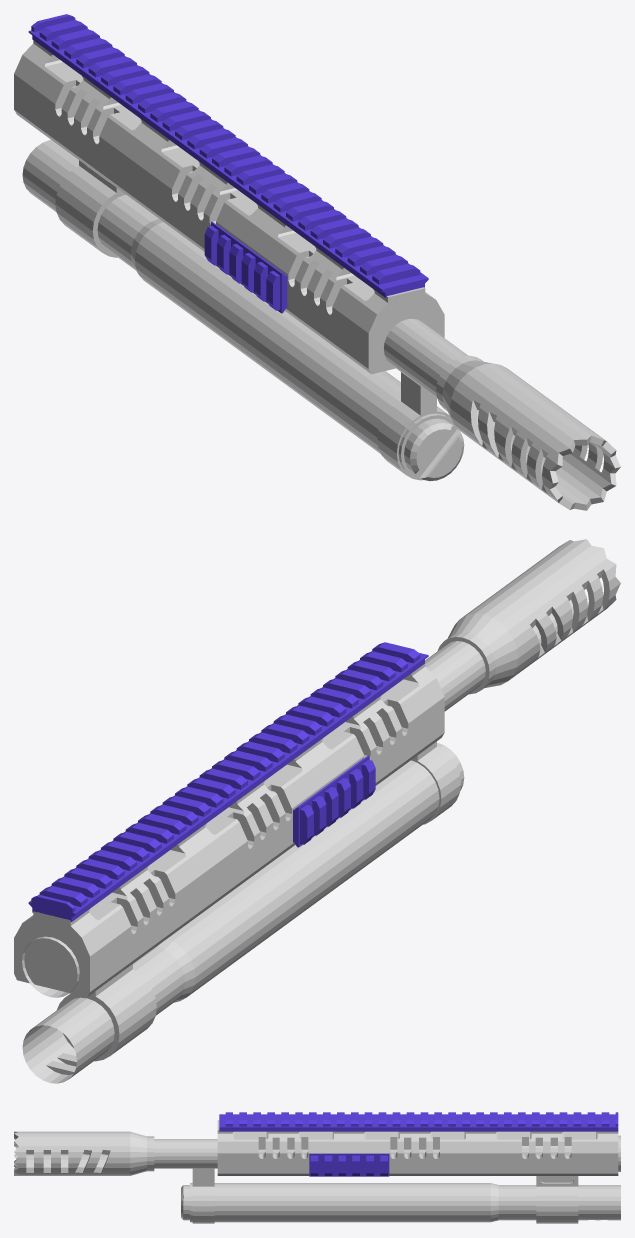
Rendered from SM_LPAMG_MAK12_Barrel_Short.fbx.
3 renders of one model, top to bottom at view 1: azimuth 30°, elevation 25°; view 2: azimuth 150°, elevation 25°; view 3: azimuth 270°, elevation 25°, orthographic. The views are drawn at different scales.
Parts seen in each view (by area): view 1: SM_LPAMG_MAK12_Barrel_Short; view 2: SM_LPAMG_MAK12_Barrel_Short; view 3: SM_LPAMG_MAK12_Barrel_Short.
Part boxes in pixels (left/top/right/bottom): SM_LPAMG_MAK12_Barrel_Short: left=14, top=14, right=620, bottom=510; SM_LPAMG_MAK12_Barrel_Short: left=14, top=539, right=620, bottom=1083; SM_LPAMG_MAK12_Barrel_Short: left=14, top=1112, right=620, bottom=1223.
Size of the model in its own units: 4.46 by 7.73 by 40.46.
